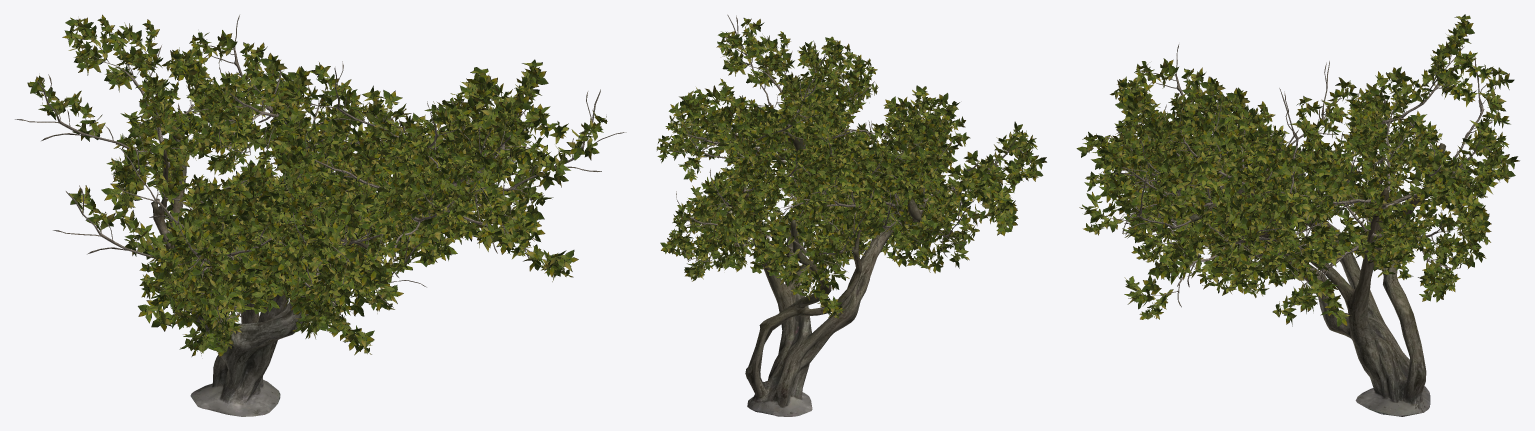
Rendered from tree.glb.
3 renders of one model, left to right at view 1: azimuth 30°, elevation 25°; view 2: azimuth 150°, elevation 25°; view 3: azimuth 270°, elevation 25°, orthographic. The views are drawn at different scales.
Visible parts, largest first — view 1: island_tree_02_LOD0; view 2: island_tree_02_LOD0; view 3: island_tree_02_LOD0.
Boxes of the visible parts, bbox=[...] form: island_tree_02_LOD0: bbox=[15, 14, 626, 416]; island_tree_02_LOD0: bbox=[656, 14, 1046, 416]; island_tree_02_LOD0: bbox=[1076, 14, 1519, 416].
Bounding box in the file's own units: 4.21 × 3.42 × 4.14.
Materials: 3 (3 with a texture image).
